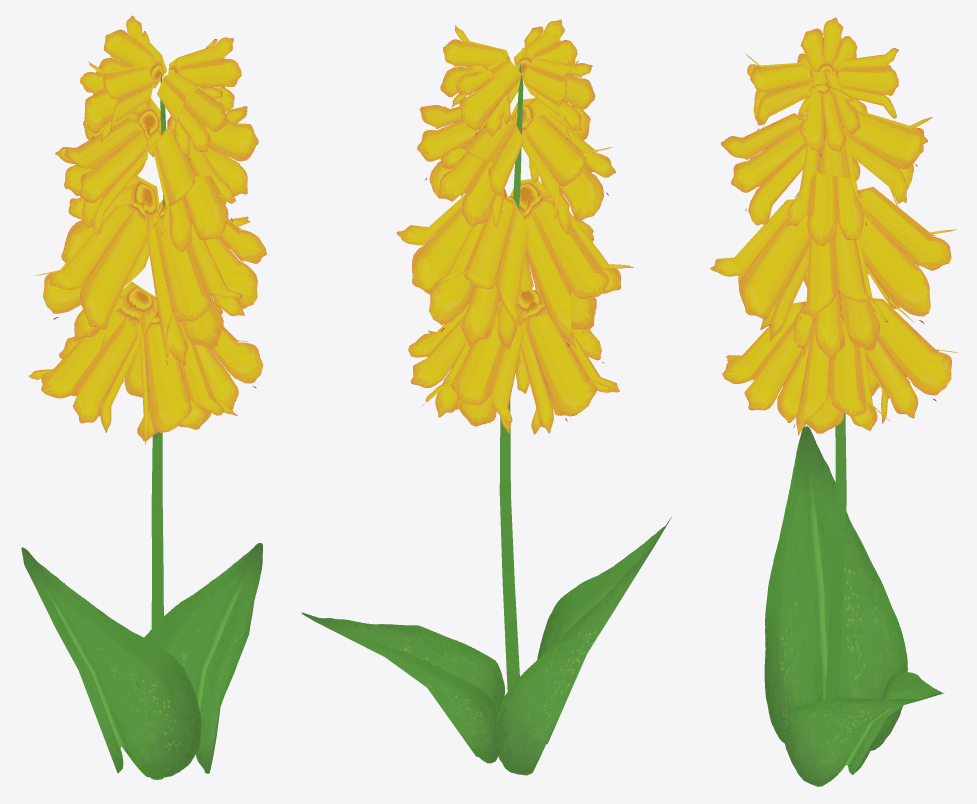
File: flower_4_single.gltf
3 views of the same model, side by side, from view 1: azimuth 30°, elevation 25°; view 2: azimuth 150°, elevation 25°; view 3: azimuth 270°, elevation 25° (orthographic).
Visible parts, largest first — view 1: flower_4_single; view 2: flower_4_single; view 3: flower_4_single.
Part boxes in pixels (x1=…): flower_4_single: x1=21, y1=15, x2=266, y2=779; flower_4_single: x1=301, y1=19, x2=671, y2=775; flower_4_single: x1=710, y1=17, x2=958, y2=786.
Bounding box in the file's own units: 1.07 × 2.42 × 0.7729.
2 materials, 2 textured.
